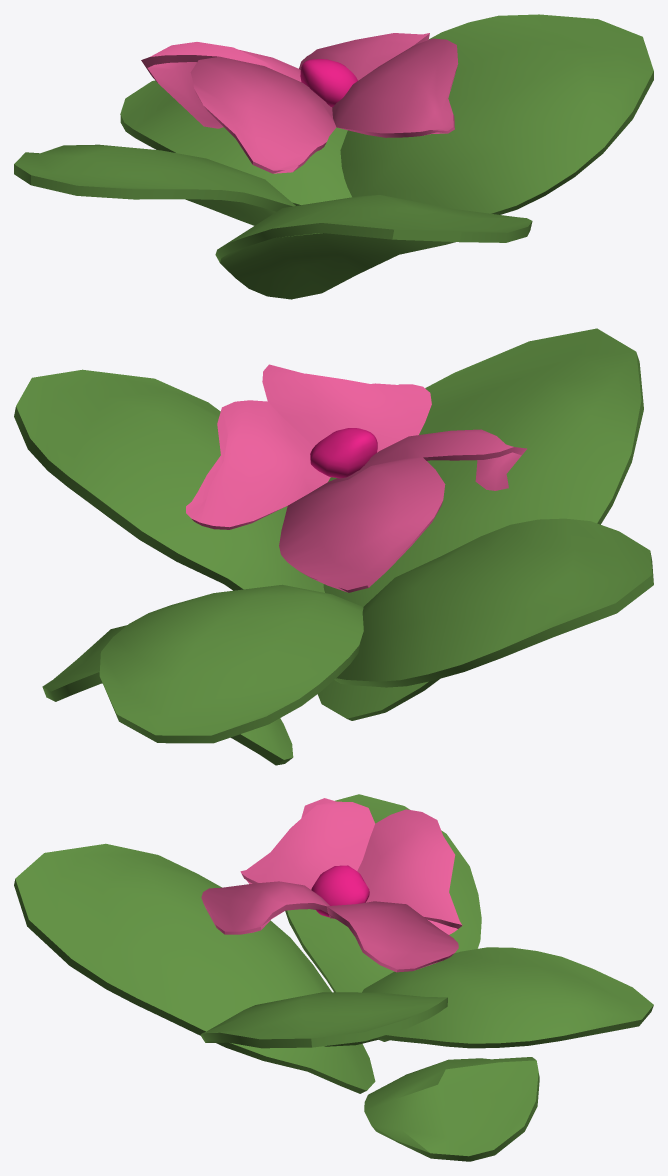
The model's file is Flower.fbx.
The picture shows the model from 3 angles, top to bottom: view 1: azimuth 30°, elevation 25°; view 2: azimuth 150°, elevation 25°; view 3: azimuth 270°, elevation 25°; orthographic projection. The views are drawn at different scales.
Visible parts, largest first — view 1: GreenParts, Flower.001, Flower; view 2: GreenParts, Flower.001, Flower; view 3: GreenParts, Flower.001, Flower.
Boxes of the visible parts, x1=… form: GreenParts: x1=14, y1=14, x2=653, y2=299; Flower.001: x1=141, y1=33, x2=458, y2=173; Flower: x1=300, y1=59, x2=357, y2=107; GreenParts: x1=14, y1=328, x2=653, y2=765; Flower.001: x1=186, y1=364, x2=526, y2=592; Flower: x1=310, y1=428, x2=377, y2=478; GreenParts: x1=14, y1=794, x2=653, y2=1161; Flower.001: x1=201, y1=798, x2=462, y2=972; Flower: x1=311, y1=865, x2=369, y2=918.
Bounding box in the file's own units: 2.15 × 0.9796 × 2.24.
